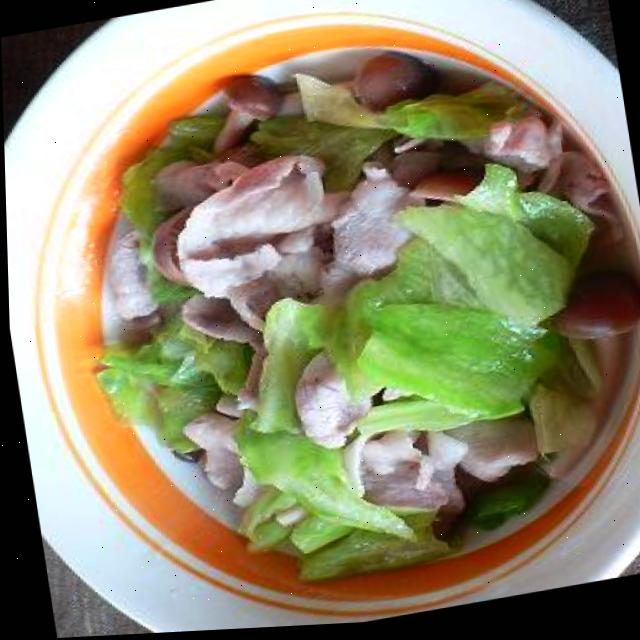蔬菜料理: (40, 1, 640, 638)
